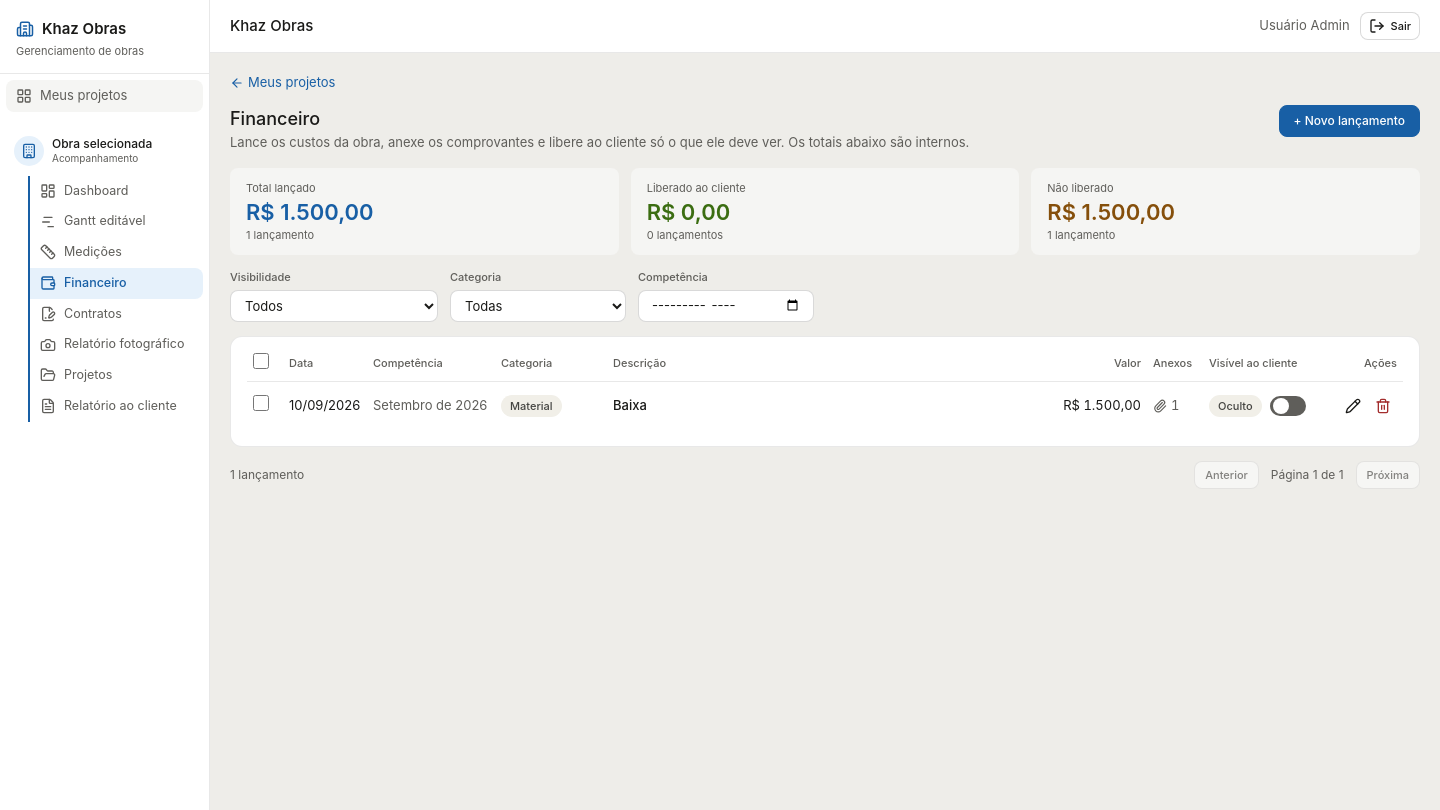
Scenario: Financeiro (admin) - comprovantes: baixar › erro 404 ao baixar mostra Alert e não salva arquivo
What coordinates should you click on to do the following:
click the button named "Editar lançamento: Baixa"
I would click on:
 (1353, 406)
Its box is [1339, 392, 1367, 420].
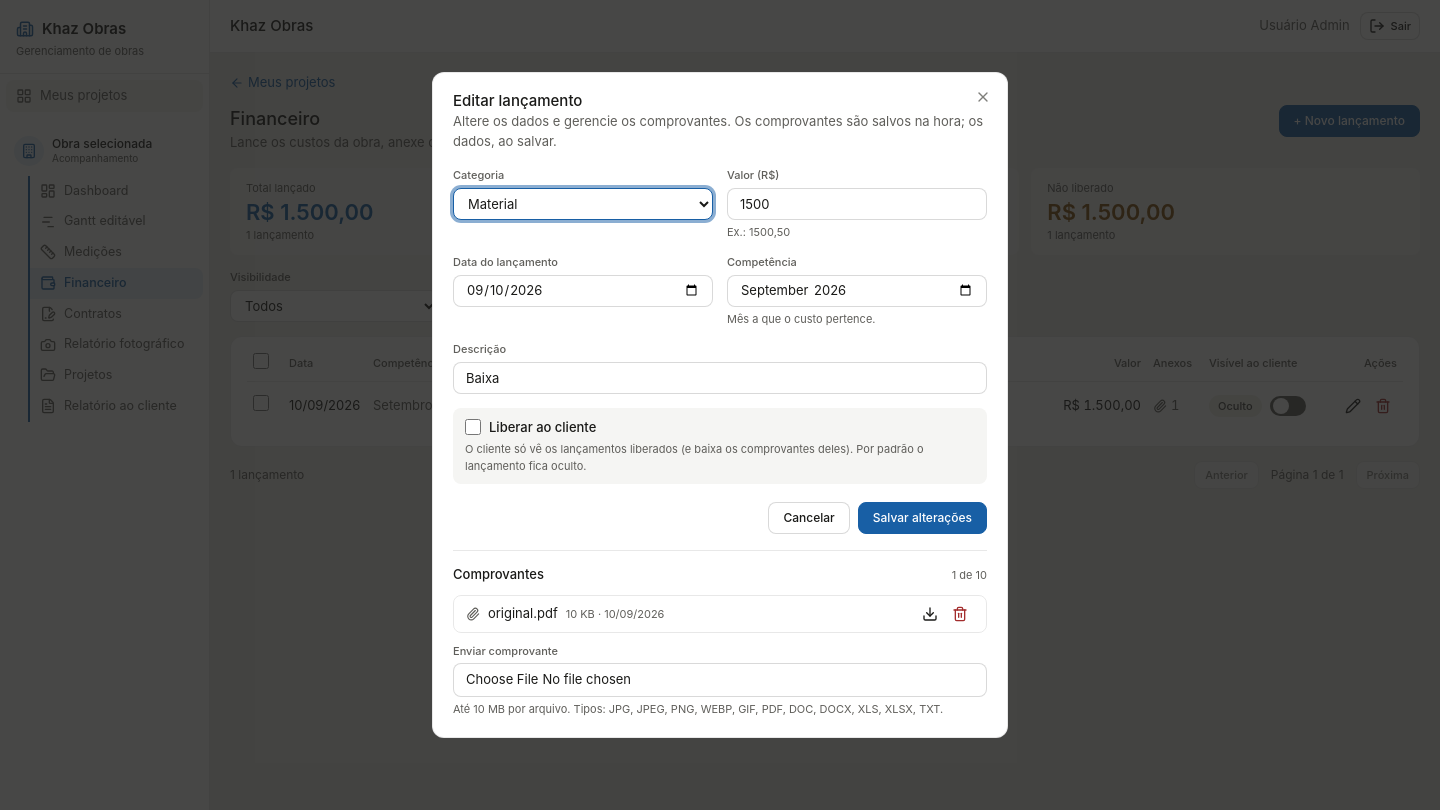
What coordinates should you click on to do the following:
click the button named "Baixar original.pdf"
I would click on:
 (930, 614)
Its box is [916, 600, 944, 628].
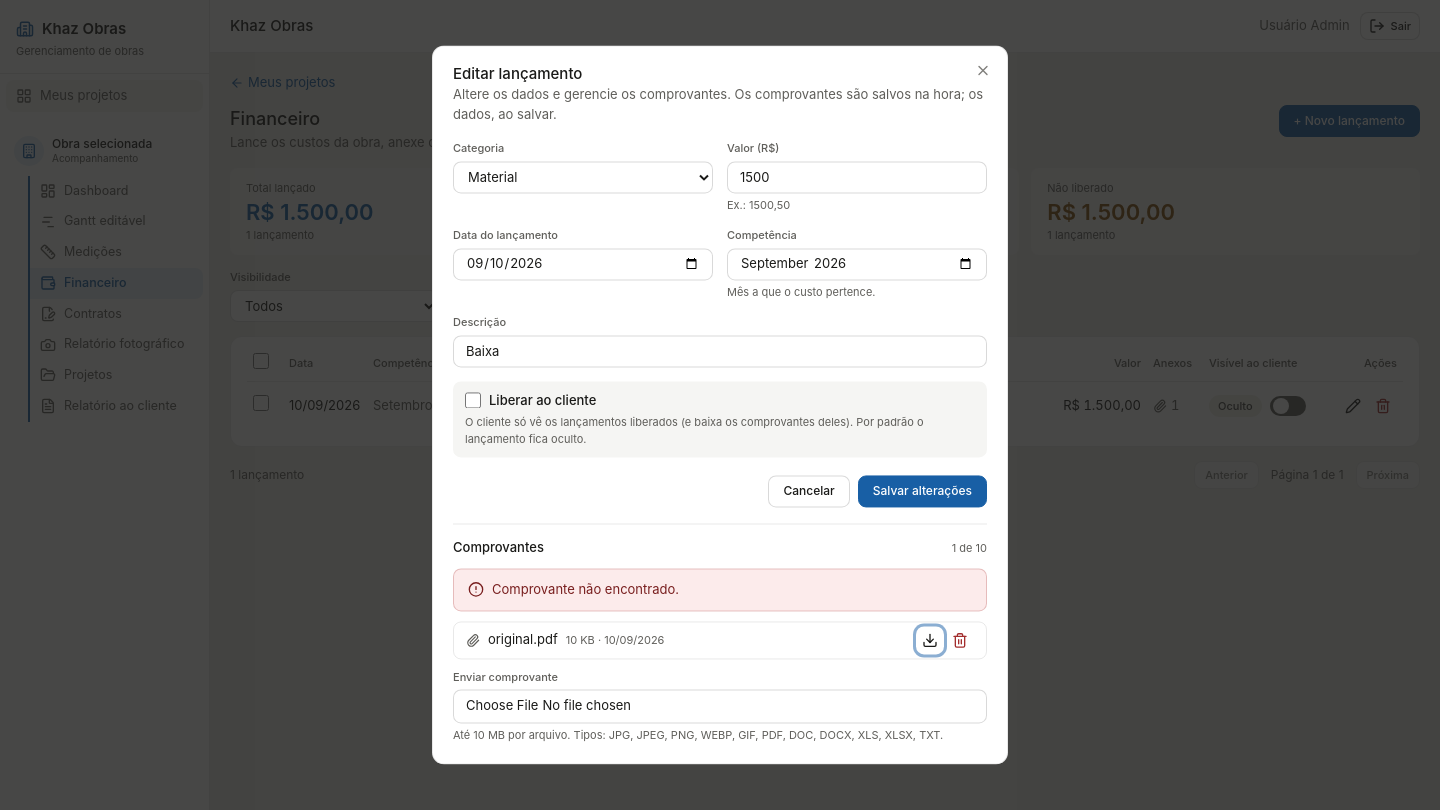
Now the message reads "Comprovante não encontrado.", box [492, 581, 679, 597]
